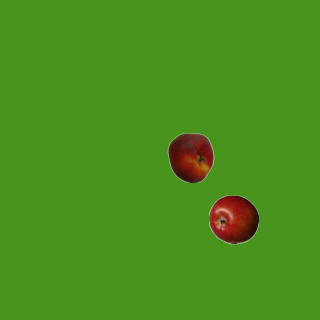Apple Braeburn: (208, 194, 258, 244)
Nectarine Flat: (165, 132, 215, 182)
